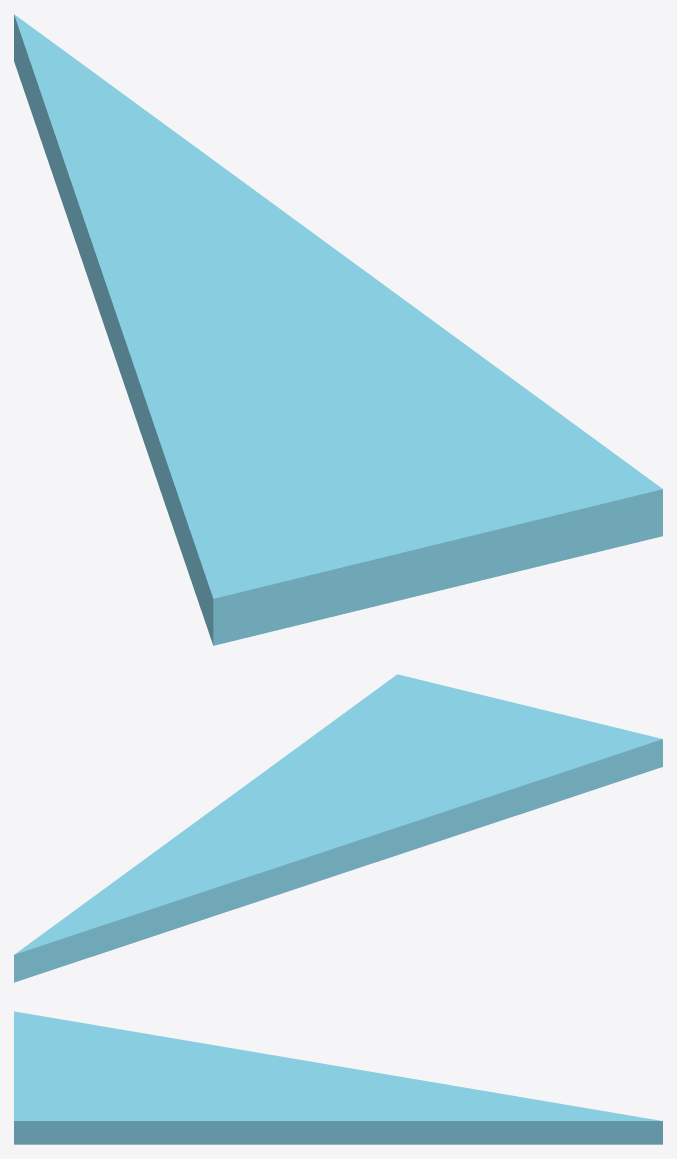
The model's file is GlassChip.gltf.
3 views of the same model, one above another, from view 1: azimuth 30°, elevation 25°; view 2: azimuth 150°, elevation 25°; view 3: azimuth 270°, elevation 25° (orthographic). The views are drawn at different scales.
Visible parts, largest first — view 1: Cube; view 2: Cube; view 3: Cube.
Boxes of the visible parts, box(x1,y1,x2,y2) form: Cube: box(14, 14, 662, 645); Cube: box(14, 674, 662, 982); Cube: box(14, 1011, 662, 1144).
Bounding box in the file's own units: 2 × 0.2 × 5.
